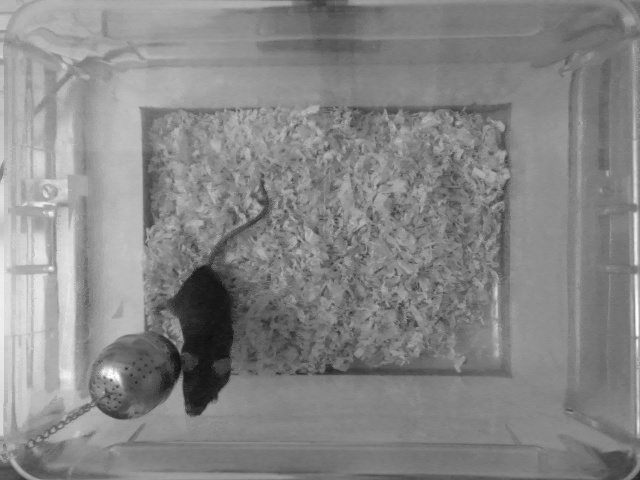mice: (169, 175, 275, 421)
